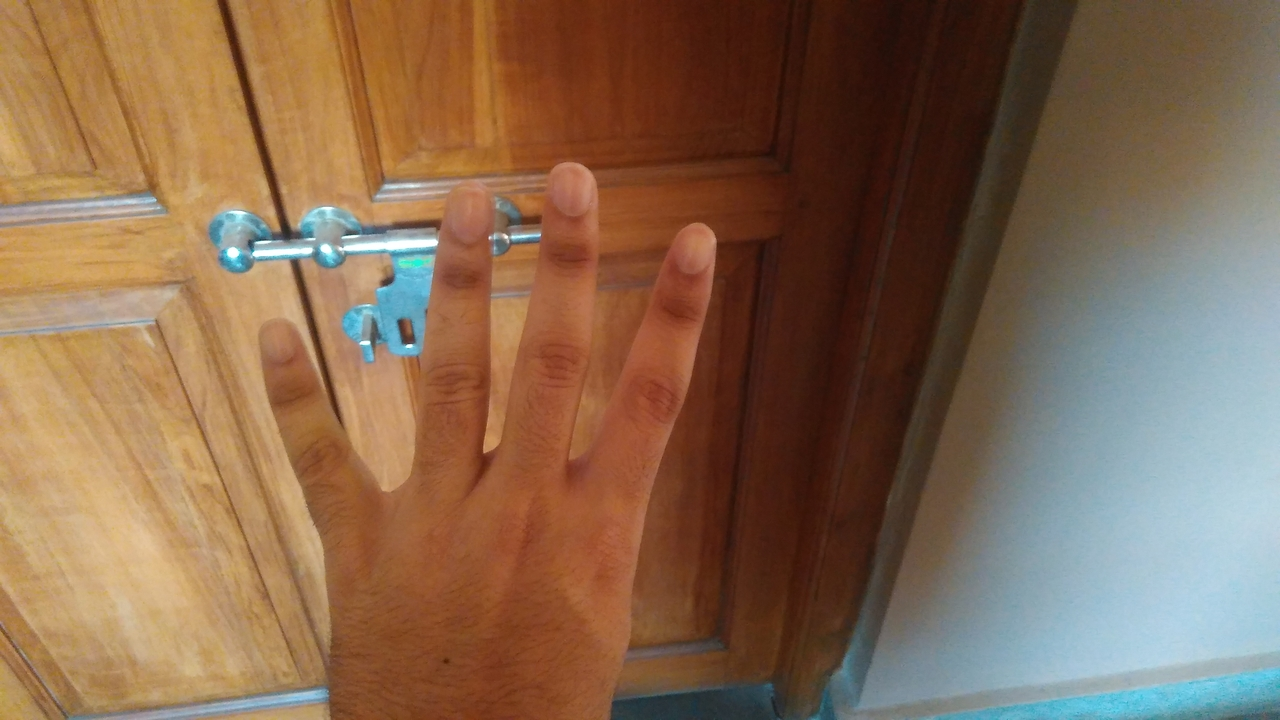fingertip: (654, 212, 726, 284), (534, 152, 604, 218), (430, 176, 496, 238), (244, 316, 304, 368)
